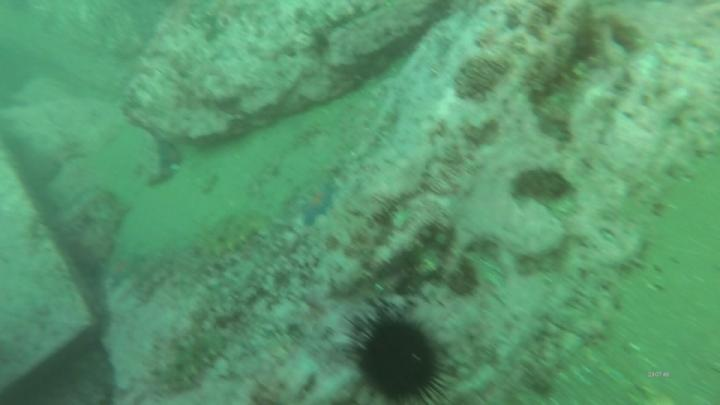echinus: (354, 315, 443, 401)
holothurian: (189, 209, 275, 266), (161, 329, 224, 389)
starfish: (297, 182, 341, 230)
